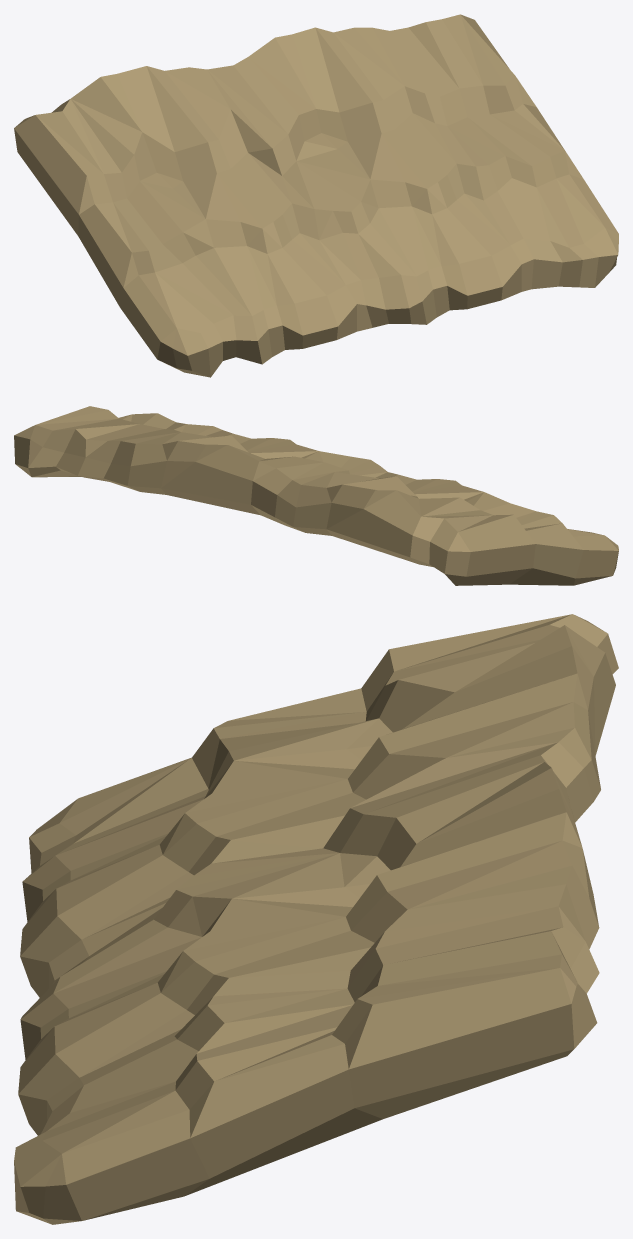
File: rpgpp_ag_gate_balcony_02_roof_02.fbx
3 views of the same model, one above another, from view 1: azimuth 30°, elevation 25°; view 2: azimuth 150°, elevation 25°; view 3: azimuth 270°, elevation 25° (orthographic). The views are drawn at different scales.
Visible parts, largest first — view 1: rpgpp_ag_gate_balcony_02_roof_02; view 2: rpgpp_ag_gate_balcony_02_roof_02; view 3: rpgpp_ag_gate_balcony_02_roof_02.
Part boxes in pixels (bbox=[...]): rpgpp_ag_gate_balcony_02_roof_02: bbox=[14, 14, 618, 377]; rpgpp_ag_gate_balcony_02_roof_02: bbox=[14, 406, 618, 585]; rpgpp_ag_gate_balcony_02_roof_02: bbox=[14, 614, 618, 1224].
Size of the model in its own units: 4.82 by 1.8 by 3.2.
